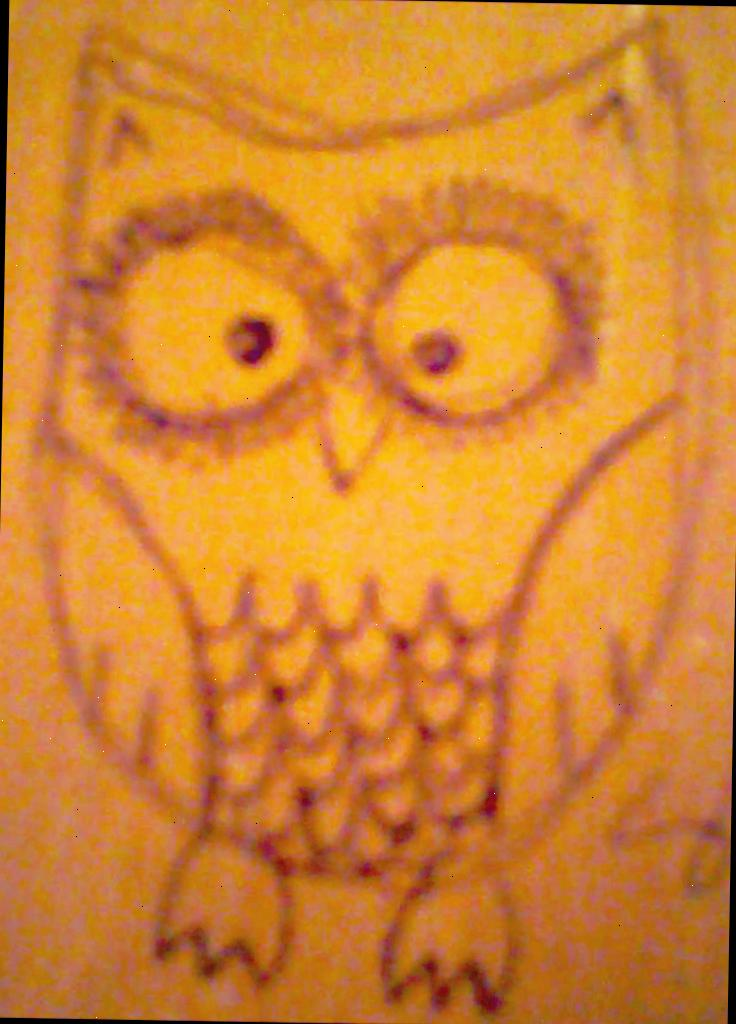Owl: (30, 14, 711, 1024)
